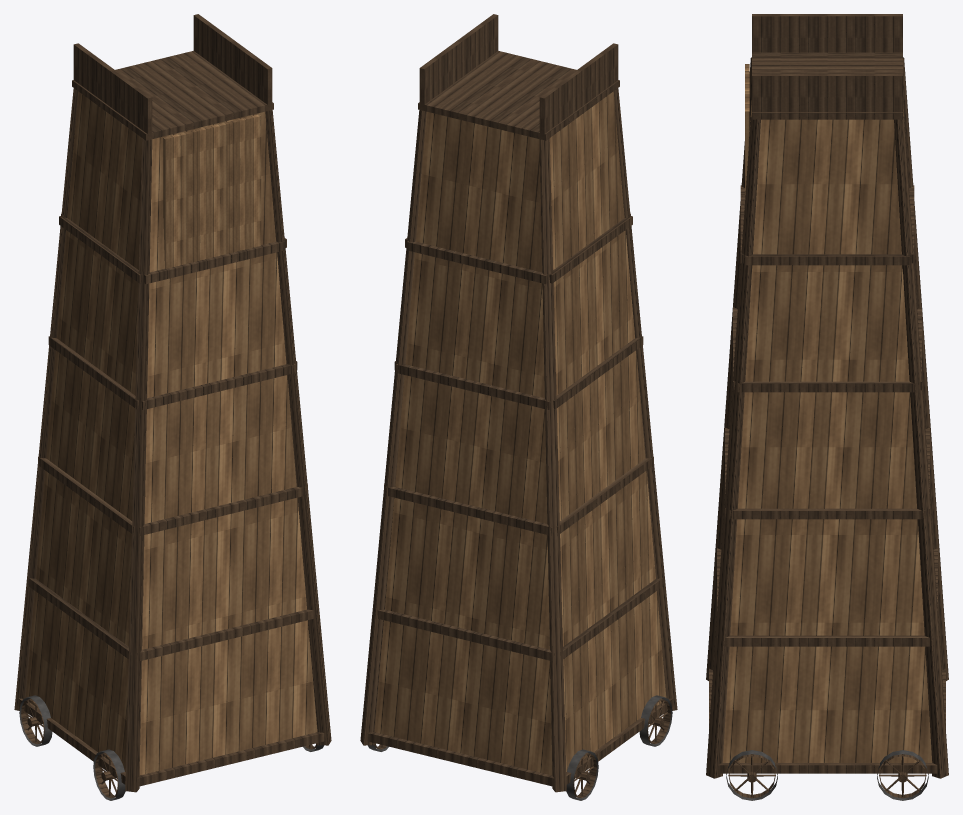
Rendered from SiegeTower_1.gltf.
The picture shows the model from 3 angles, left to right: view 1: azimuth 30°, elevation 25°; view 2: azimuth 150°, elevation 25°; view 3: azimuth 270°, elevation 25°; orthographic projection.
Parts seen in each view (by area): view 1: SiegeTower_1; view 2: SiegeTower_1; view 3: SiegeTower_1.
Part boxes in pixels (bbox=[...]): SiegeTower_1: bbox=[14, 14, 331, 800]; SiegeTower_1: bbox=[360, 14, 677, 800]; SiegeTower_1: bbox=[706, 14, 948, 800].
Bounding box in the file's own units: 5.32 × 16.5 × 5.16.
Materials: 3 (3 with a texture image).
